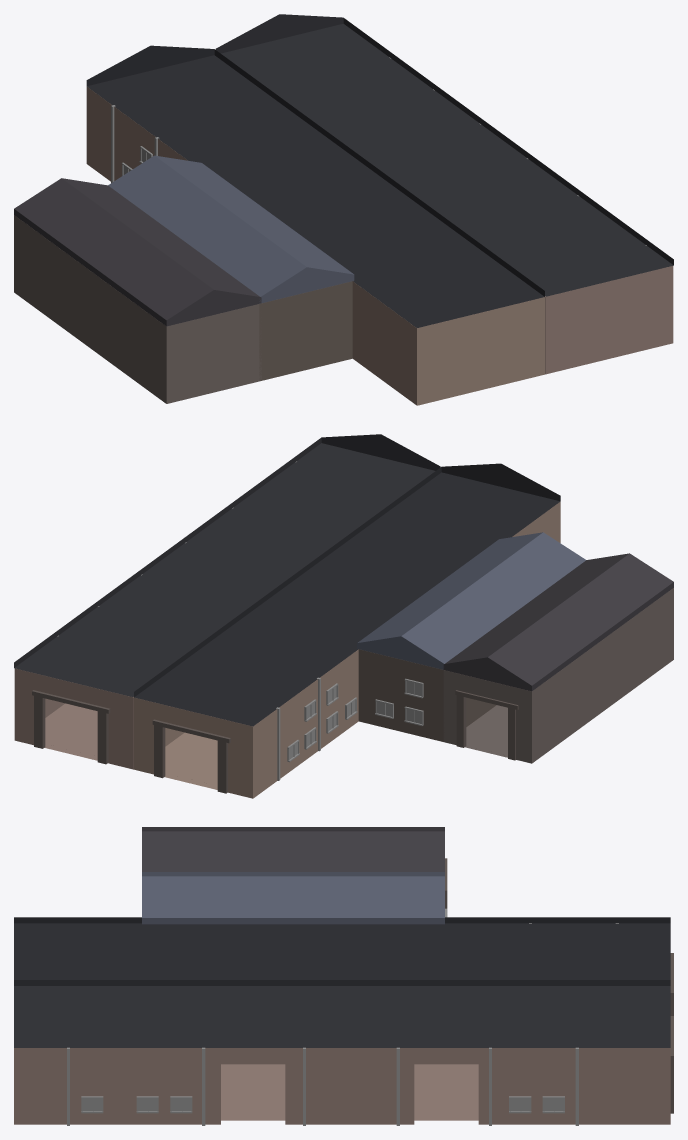
File: peppermill.glb
3 renders of one model, top to bottom at view 1: azimuth 30°, elevation 25°; view 2: azimuth 150°, elevation 25°; view 3: azimuth 270°, elevation 25°, orthographic. The views are drawn at different scales.
Parts seen in each view (by area): view 1: Cube.006; view 2: Cube.006; view 3: Cube.006.
Part boxes in pixels (left/top/right/bottom): Cube.006: left=14, top=14, right=673, bottom=405; Cube.006: left=14, top=434, right=673, bottom=798; Cube.006: left=14, top=827, right=673, bottom=1125.
Size of the model in its own units: 108 by 23.7 by 139.
